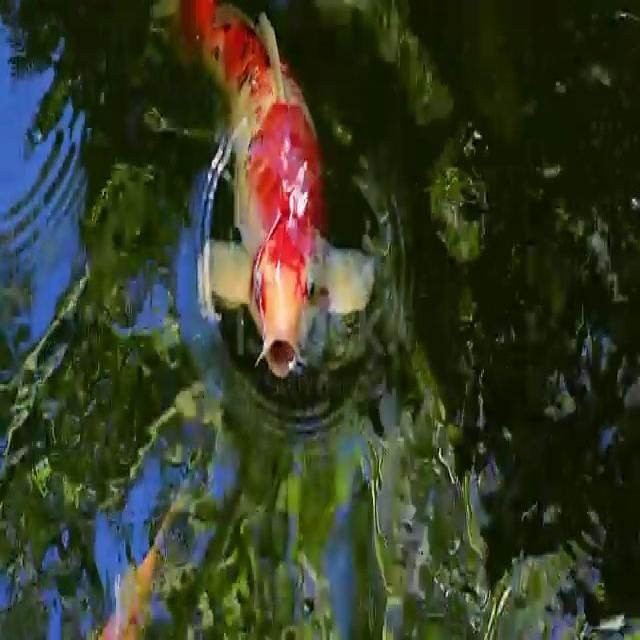fish: (167, 0, 385, 385), (94, 498, 173, 640)
